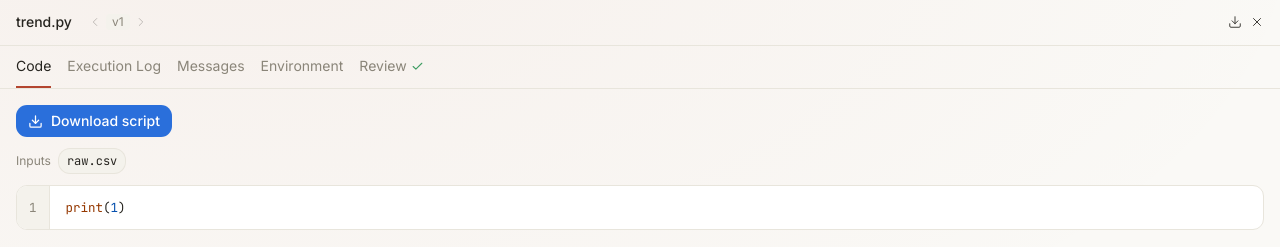
Test: ArtifactInspector strings (i18n) › renders the review-passed state in English
This screenshot has width=1280, height=247.
Click the button "Review". click: click(391, 67)
box: [359,46,424,88]
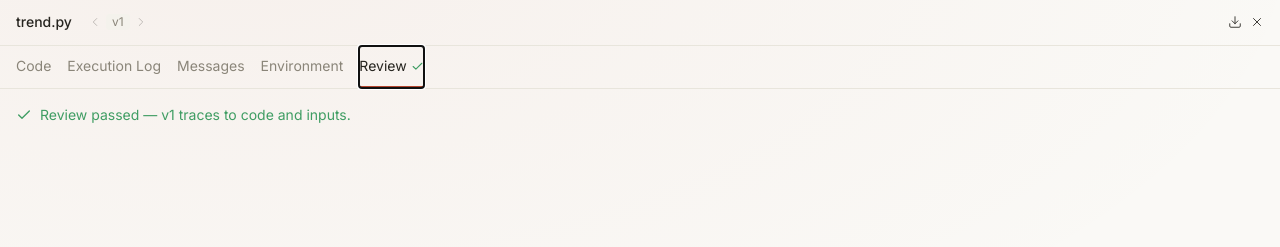
expect the text "Review passed — v1 traces to code and inputs." is shown: met, box [16,106,351,123]
